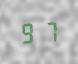nine: (19, 21, 38, 44)
seven: (39, 19, 58, 42)
